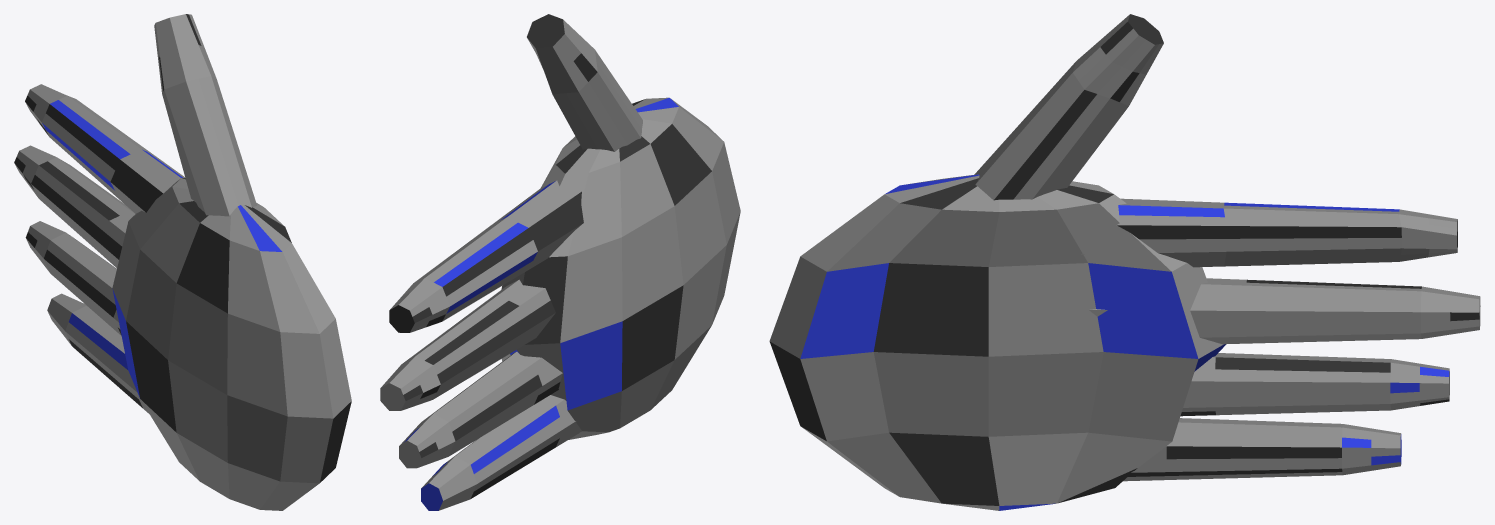
Rendered from ruka.fbx.
3 views of the same model, side by side, from view 1: azimuth 30°, elevation 25°; view 2: azimuth 150°, elevation 25°; view 3: azimuth 270°, elevation 25° (orthographic). The views are drawn at different scales.
Visible parts, largest first — view 1: Сфера; view 2: Сфера; view 3: Сфера.
Boxes of the visible parts, bbox=[...] form: Сфера: bbox=[14, 14, 351, 510]; Сфера: bbox=[380, 14, 740, 510]; Сфера: bbox=[769, 14, 1480, 510].
Bounding box in the file's own units: 81.04 × 338 × 440.
